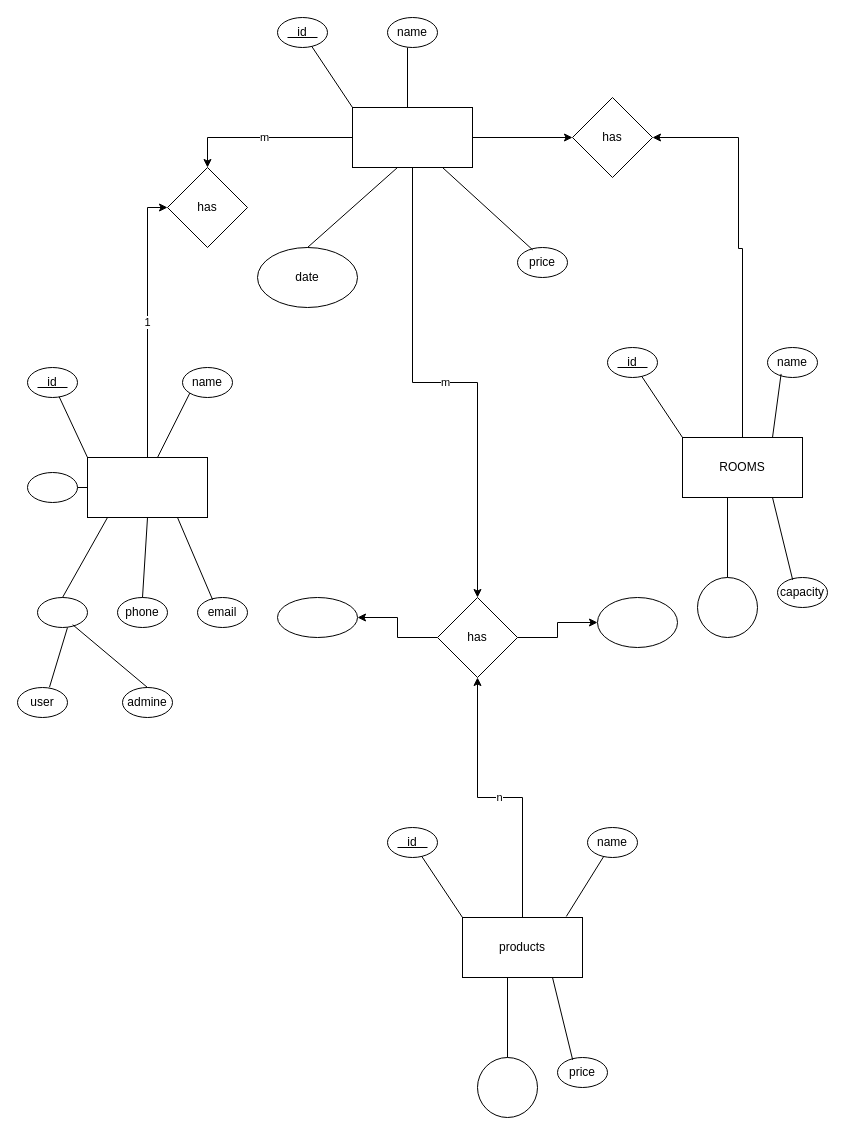
This 845x1135 diagram has some shape labels left out. The shapes that lost their labels are listed below. From the top down, each one's centre as x and y in pixels, then its label:
(412,137): orders
(52,487): password
(147,487): users
(62,612): role
(317,617): notes
(637,622): quantity
(727,607): price-per-houer
(507,1087): category
